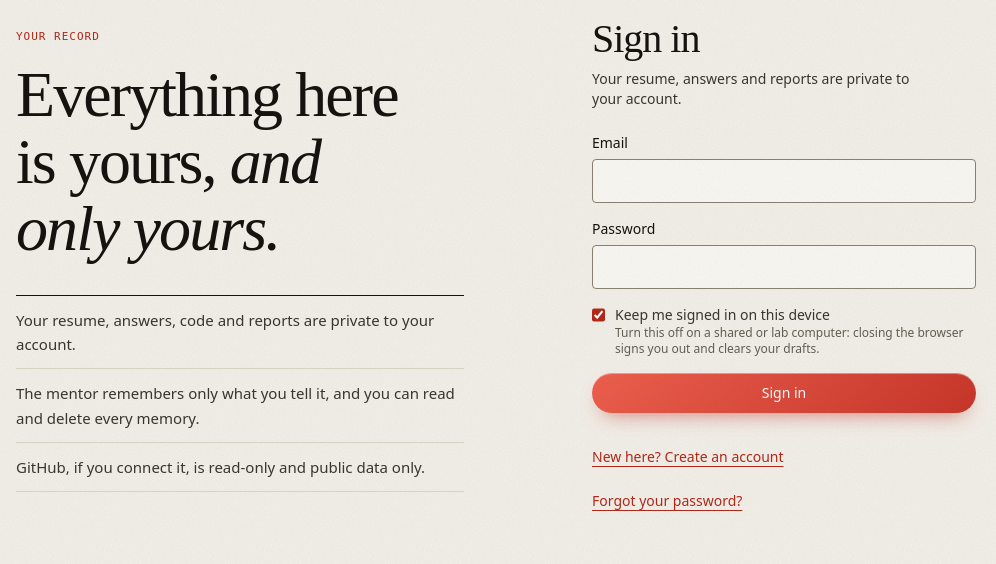
Test: LoginPage › shows provider errors without leaking internals
This screenshot has width=996, height=564.
expect the heading "Sign in" is shown: met, box x1=592 y1=16 x2=700 y2=61
Type "me@example.com" into the field labelled "Email" at {"x": 784, "y": 181}, box x1=592 y1=159 x2=976 y2=203
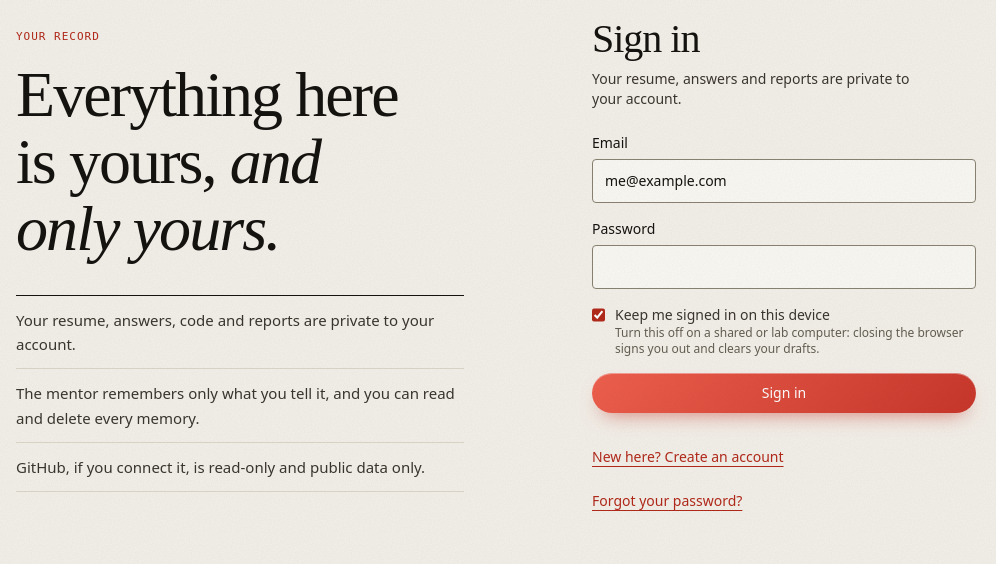
Type "wrong-password" into the password field labelled "Password" at {"x": 784, "y": 267}, box x1=592 y1=245 x2=976 y2=289
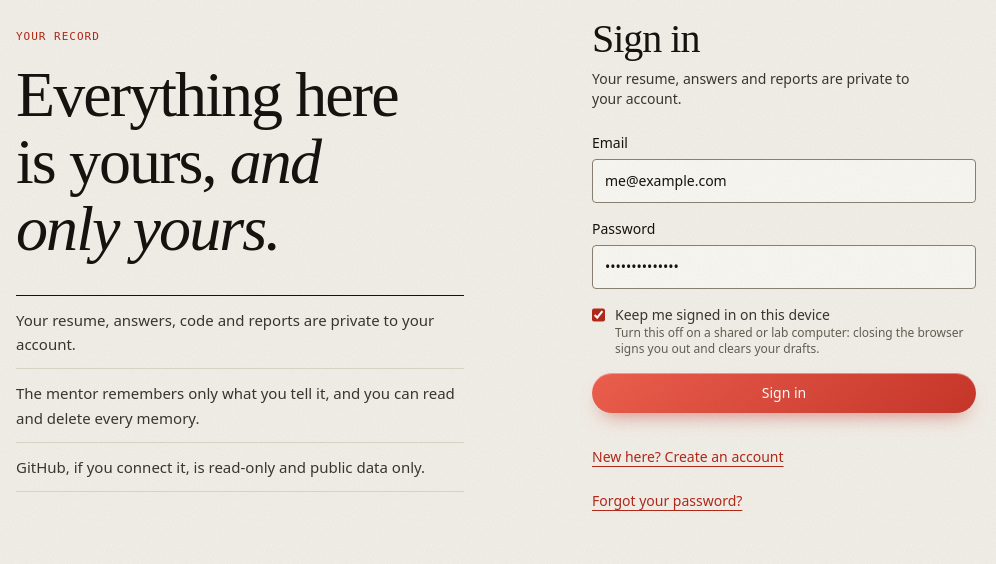
Click the button "Sign in" at {"x": 784, "y": 393}, box x1=592 y1=373 x2=976 y2=413
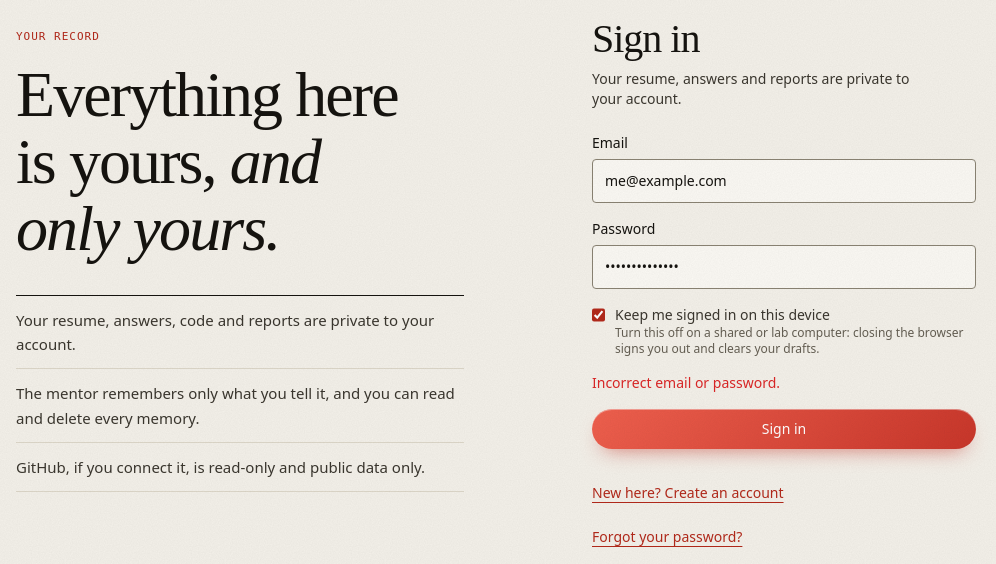
expect the message reads "Incorrect email or password.": met, box x1=592 y1=373 x2=780 y2=392
